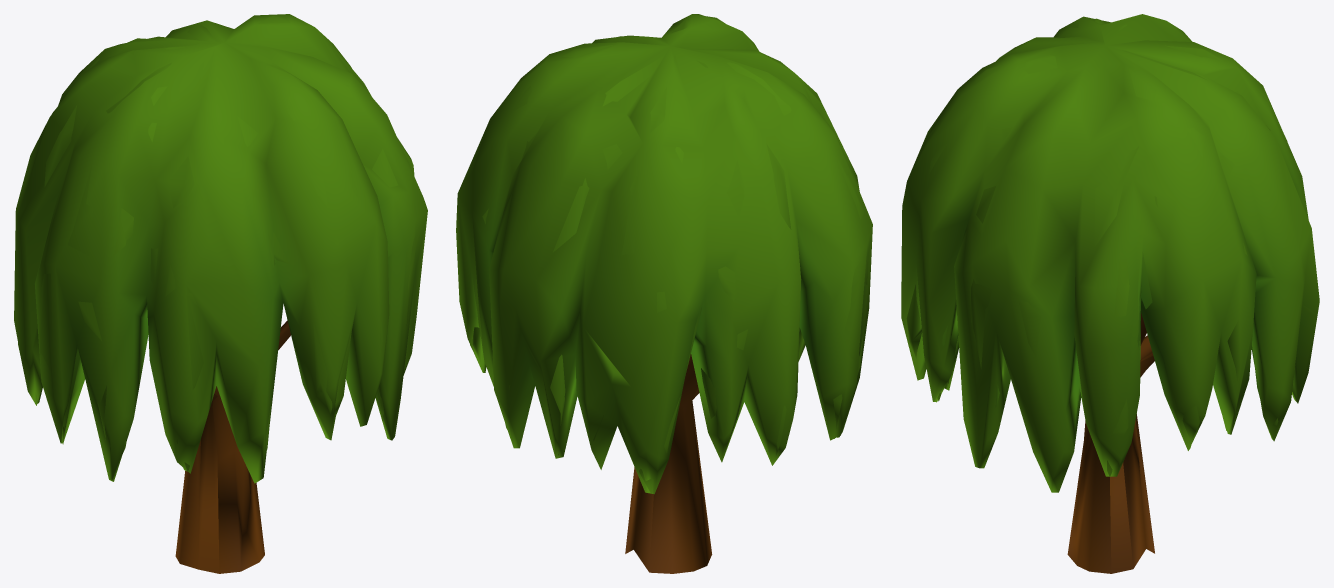
The model's file is gen3d-willow-tree-lod1.glb.
3 views of the same model, side by side, from view 1: azimuth 30°, elevation 25°; view 2: azimuth 150°, elevation 25°; view 3: azimuth 270°, elevation 25° (orthographic).
Parts seen in each view (by area): view 1: part_0; view 2: part_0; view 3: part_0.
Part boxes in pixels (x1,y1,x2,y2): part_0: (14, 14, 427, 573); part_0: (456, 14, 872, 573); part_0: (901, 14, 1319, 573).
Size of the model in its own units: 0.7333 by 0.969 by 0.719.
